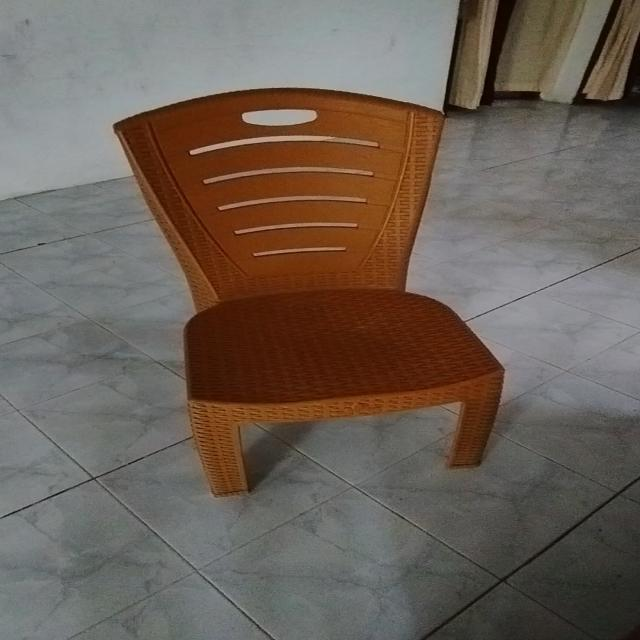chair: (89, 69, 543, 517)
